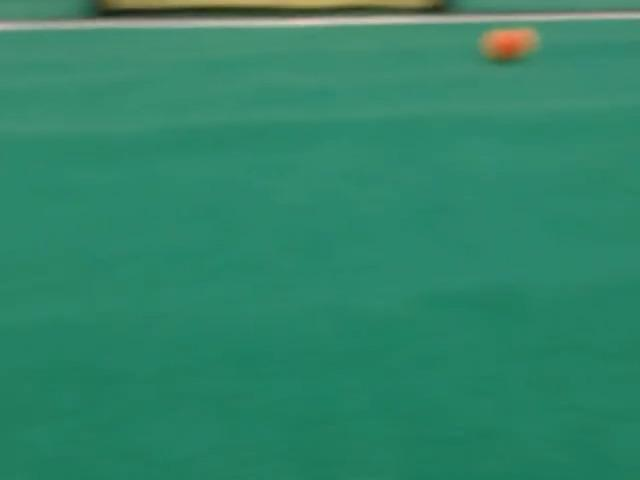Ball: (481, 28, 539, 61)
